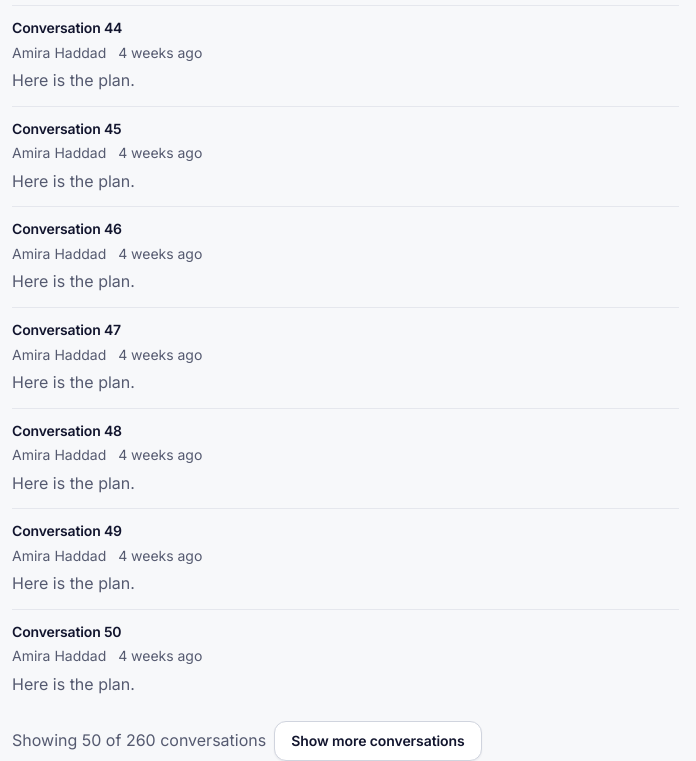
Test: MessagesPanel paging › pages through more than 200 conversations instead of stopping at the first batch
(page scrolled)
Click the button "Show more conversations". click: (378, 741)
box: [274,721,482,760]
(page scrolled)
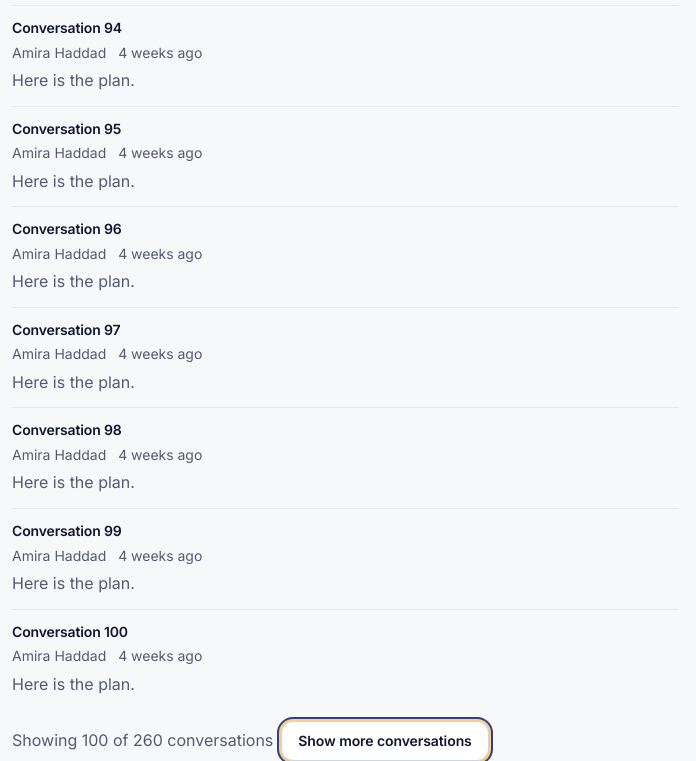
Click the button "Show more conversations". click: (385, 741)
box: [281,721,489,760]
(page scrolled)
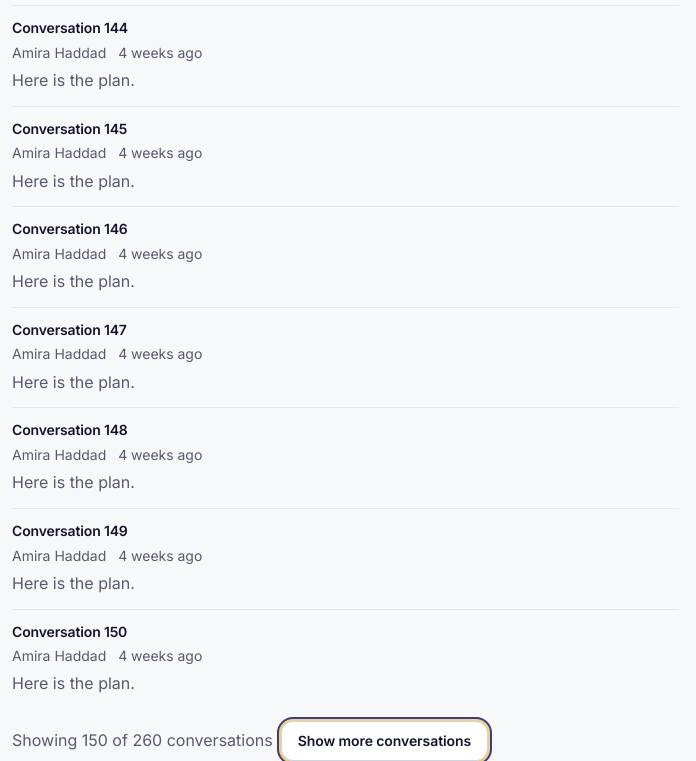
Click the button "Show more conversations". click: (384, 741)
box: [281,721,488,760]
(page scrolled)
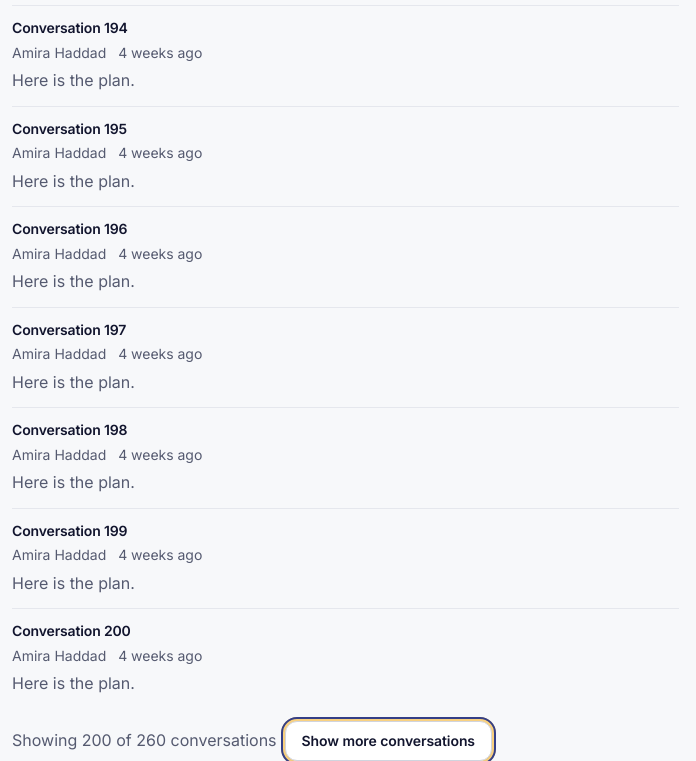
Click the button "Show more conversations". click: (388, 741)
box: [284,721,492,760]
(page scrolled)
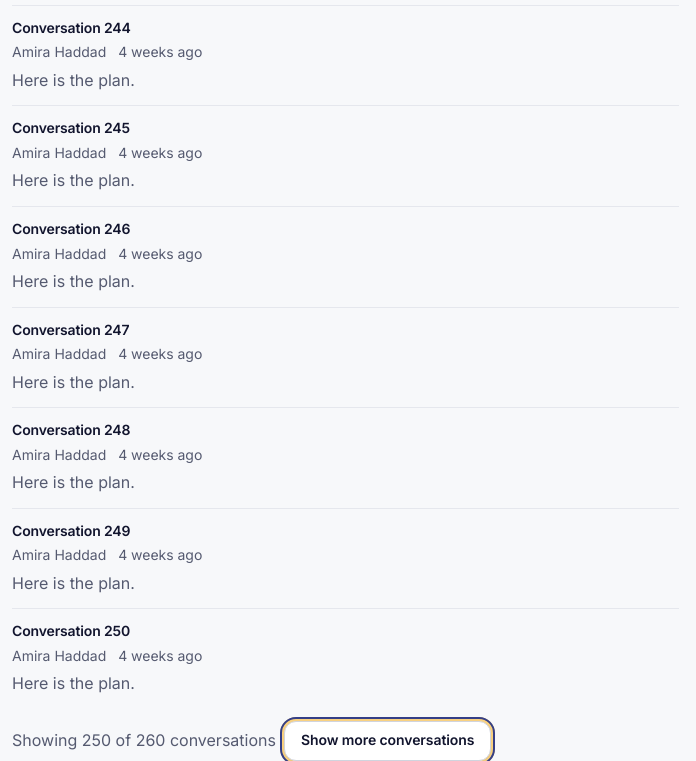
Click the button "Show more conversations". click: (388, 741)
box: [284,721,491,760]
(page scrolled)
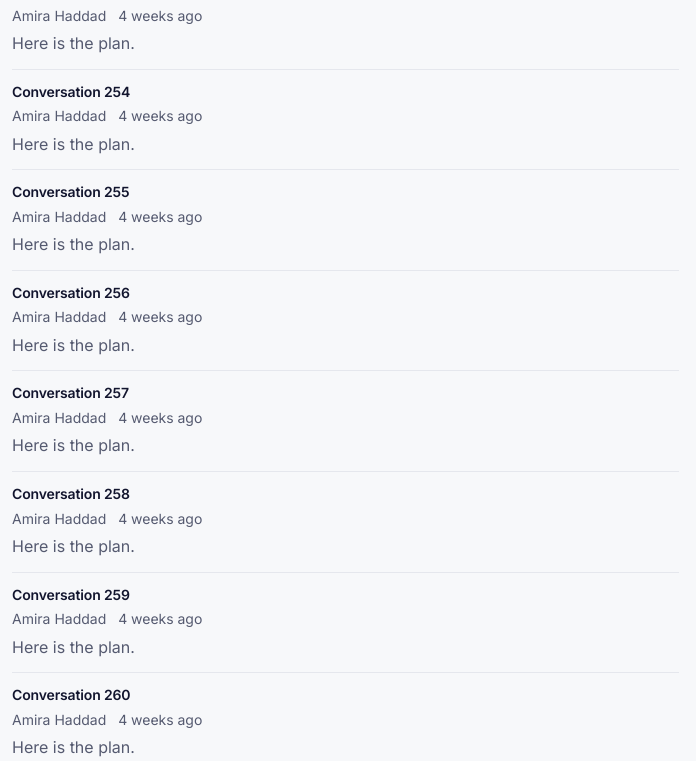
Now the button "Show more conversations" is gone
